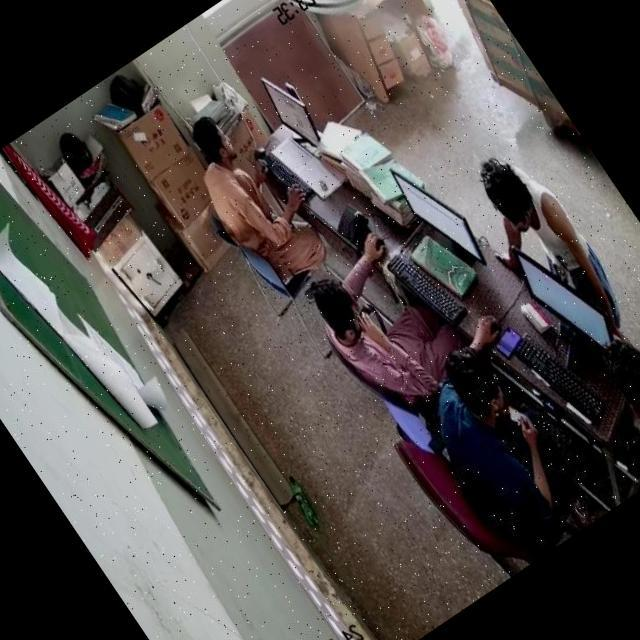person: (403, 335, 584, 541), (466, 132, 636, 339), (170, 96, 320, 283), (298, 254, 446, 414), (591, 327, 640, 473)
